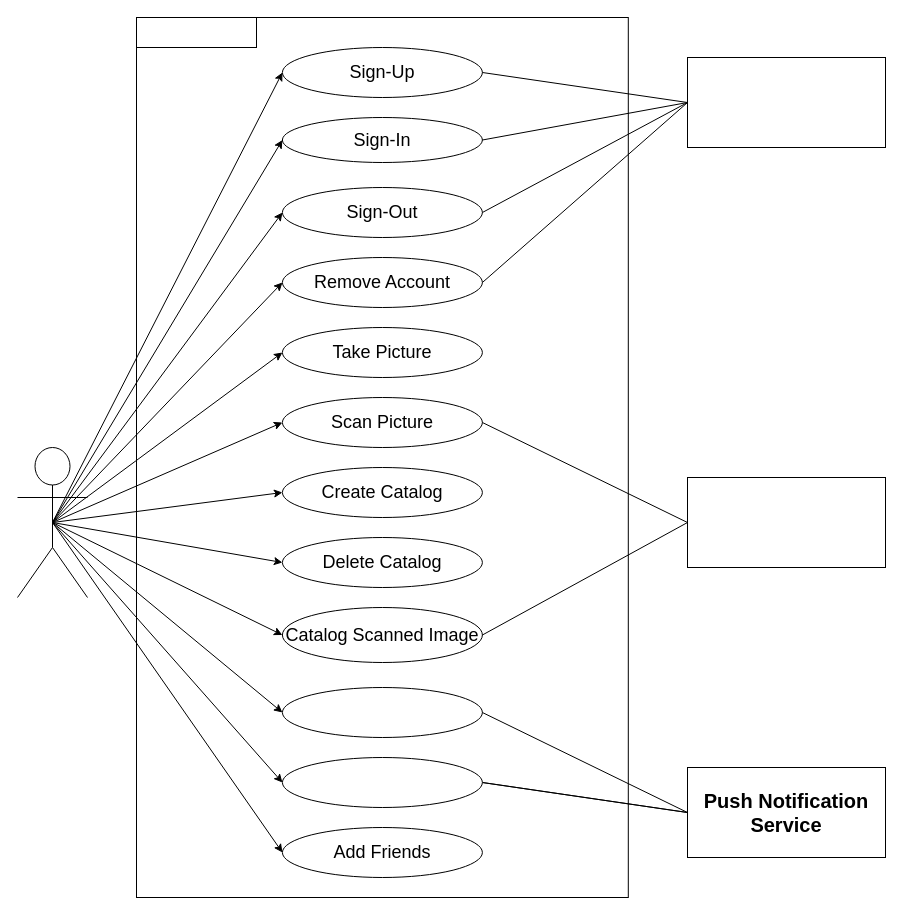
This 903x915 diagram has some shape labels left out. Here are the shapes that lost their labels. From the top down, the centre of each, then its label:
(196,32): Bio-Track
(786,102): External Authentication Service
(52,522): User
(786,522): External Image Recognition Service
(381,712): Share Catalog
(381,782): Share Scanned Picture
